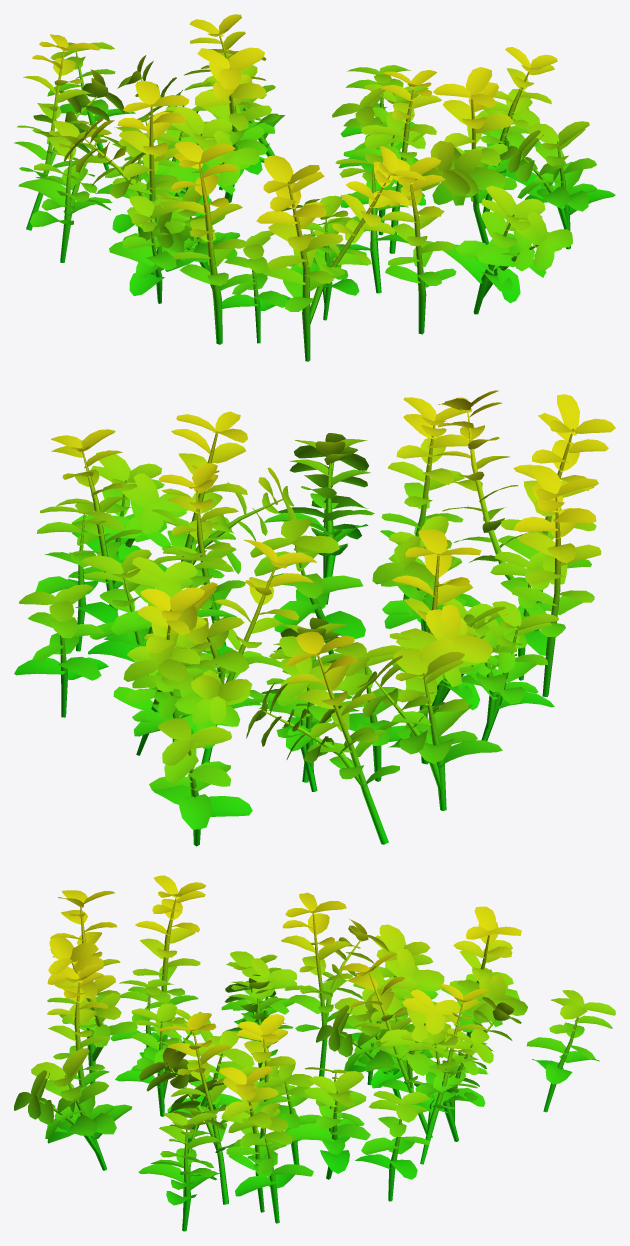
Rendered from Lingonberry_LOD1_Var18_wjhjahlqx.fbx.
The picture shows the model from 3 angles, top to bottom: view 1: azimuth 30°, elevation 25°; view 2: azimuth 150°, elevation 25°; view 3: azimuth 270°, elevation 25°; orthographic projection. The views are drawn at different scales.
Visible parts, largest first — view 1: _2hl0_Var18_LOD1; view 2: _2hl0_Var18_LOD1; view 3: _2hl0_Var18_LOD1.
Part boxes in pixels (bbox=[...]): _2hl0_Var18_LOD1: bbox=[14, 14, 615, 361]; _2hl0_Var18_LOD1: bbox=[14, 390, 615, 846]; _2hl0_Var18_LOD1: bbox=[14, 875, 615, 1231].
Bounding box in the file's own units: 35.03 × 14.67 × 41.7.
